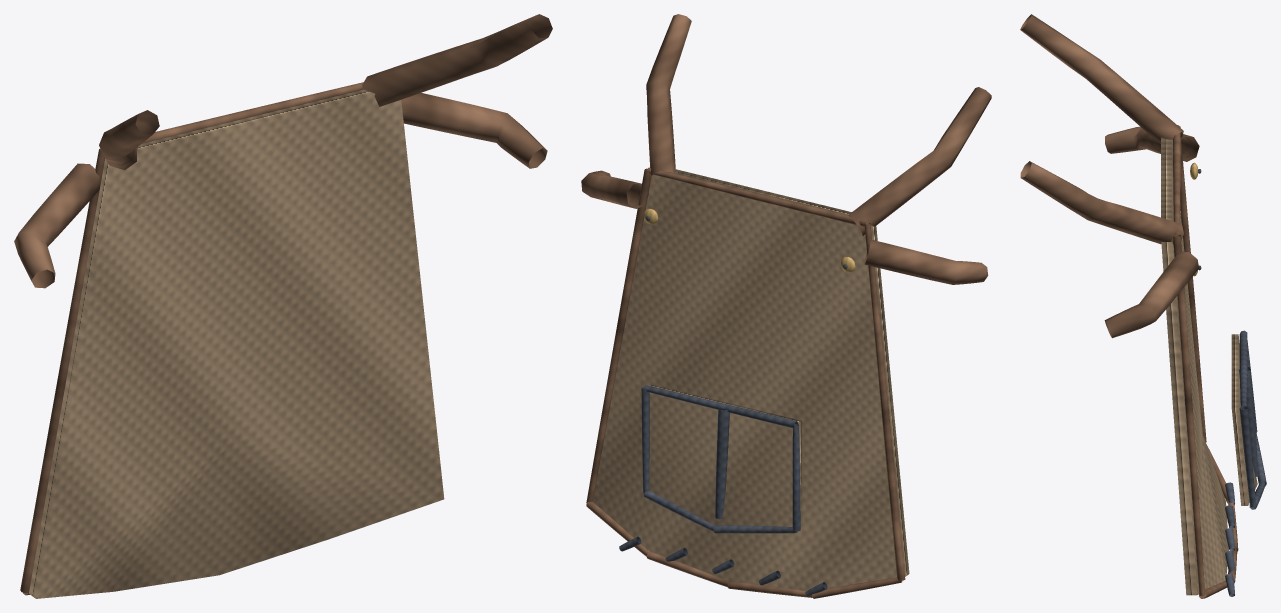
The model's file is outfit_apron.glb.
3 renders of one model, left to right at view 1: azimuth 30°, elevation 25°; view 2: azimuth 150°, elevation 25°; view 3: azimuth 270°, elevation 25°, orthographic. The views are drawn at different scales.
Parts seen in each view (by area): view 1: outfit_apron; view 2: outfit_apron; view 3: outfit_apron.
Boxes of the visible parts, left/top/right/bottom form: outfit_apron: left=14, top=14, right=552, bottom=598; outfit_apron: left=581, top=14, right=991, bottom=598; outfit_apron: left=1020, top=14, right=1266, bottom=598.
Size of the model in its own units: 1.44 by 1.62 by 0.7775.
Materials: 4 (4 with a texture image).
